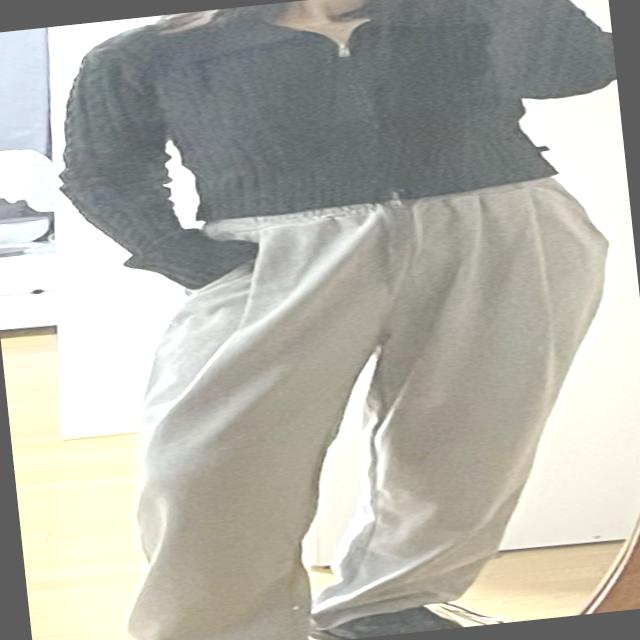cardigan: (40, 0, 633, 301)
trainingpants: (80, 159, 640, 640)
